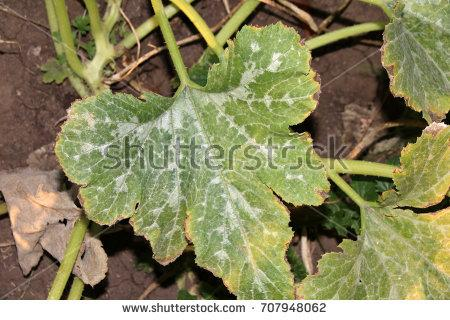Squash Powdery mildew leaf: (46, 15, 335, 300)
